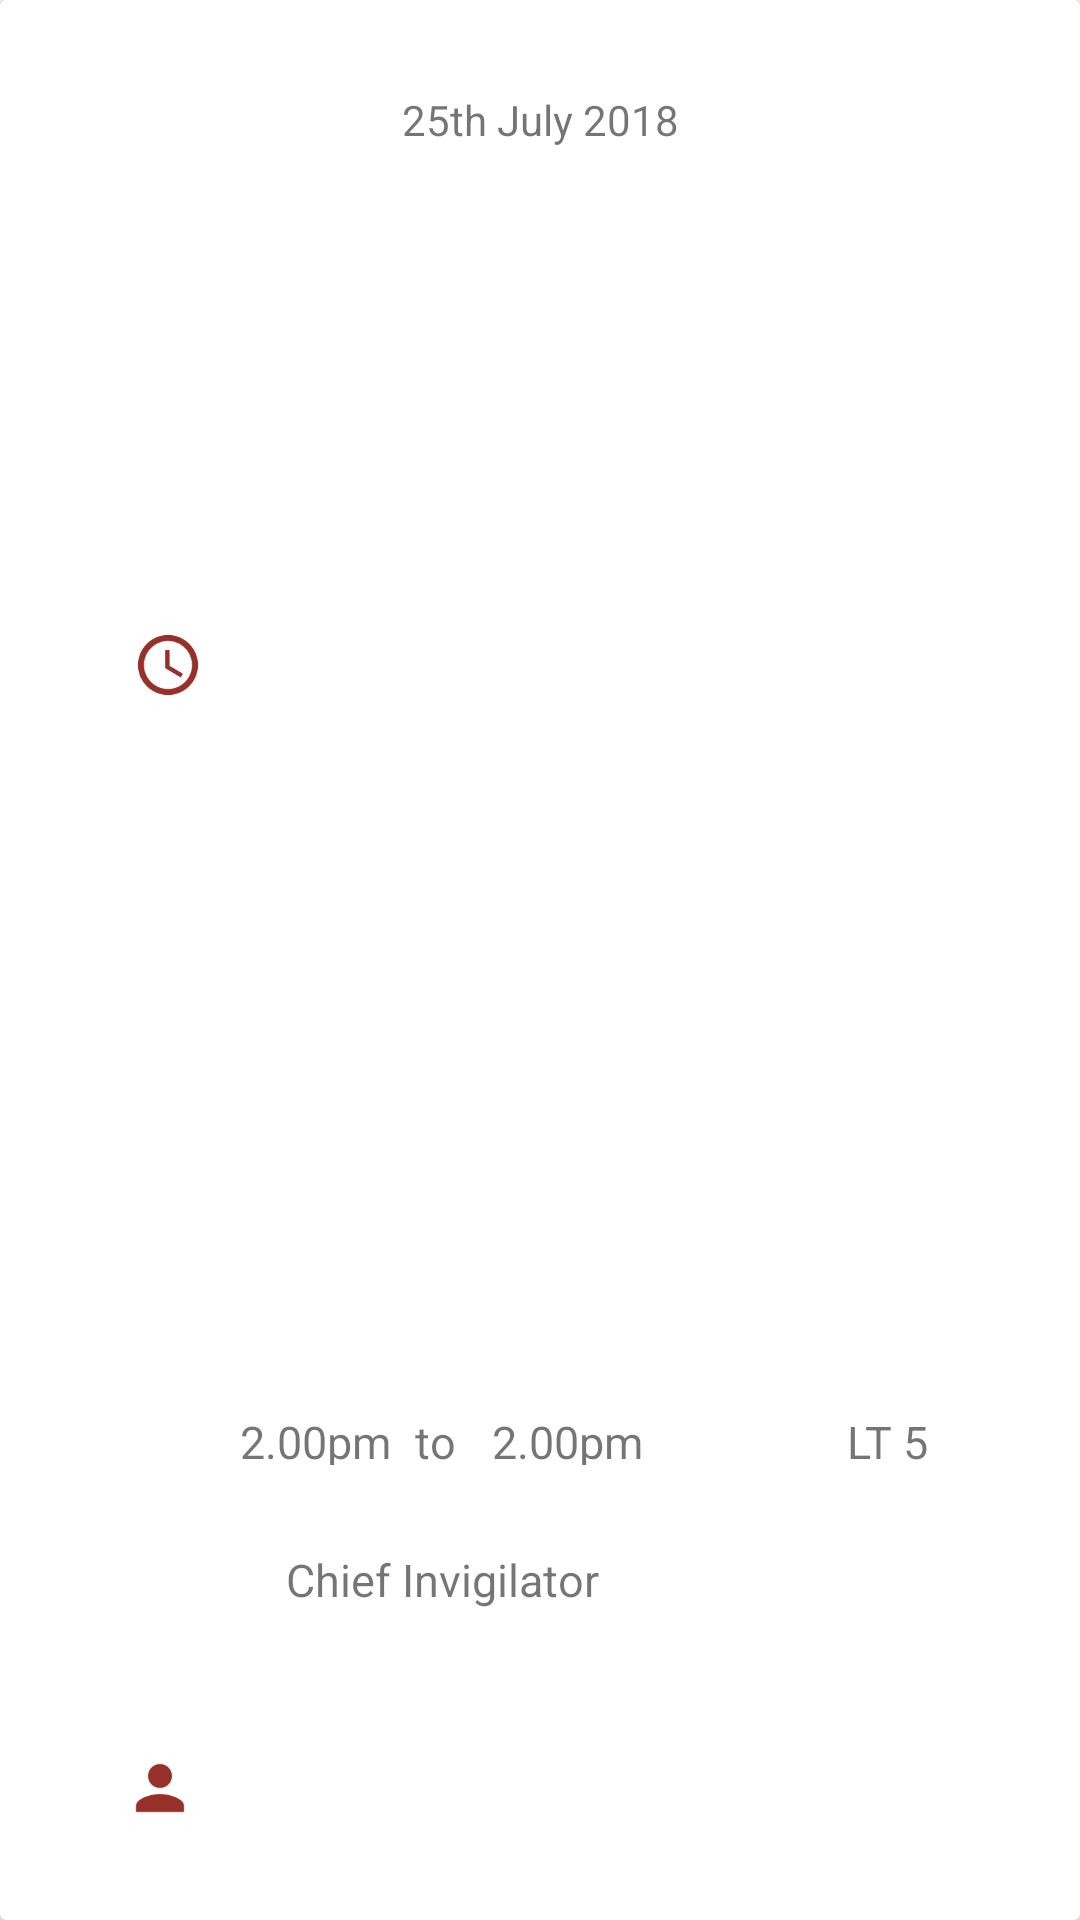

Icons on this 1080px×1920px Android screen, each with its box as (x1,y1,x2,y2):
access time: (137,634,199,696)
person: (135,1763,185,1813)
